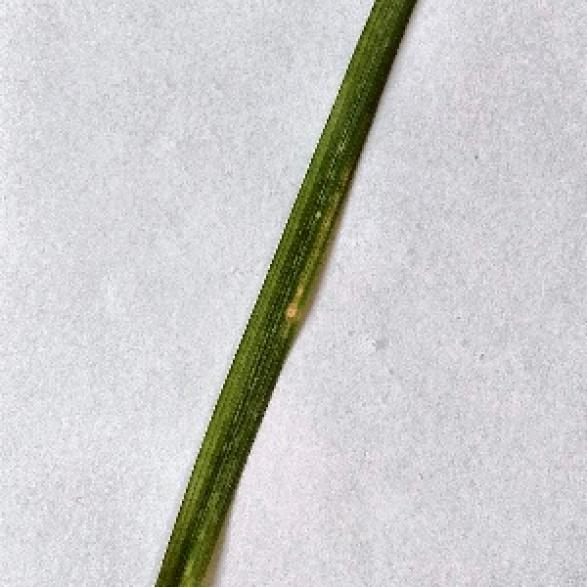Leaf_smut: (250, 119, 364, 370)
